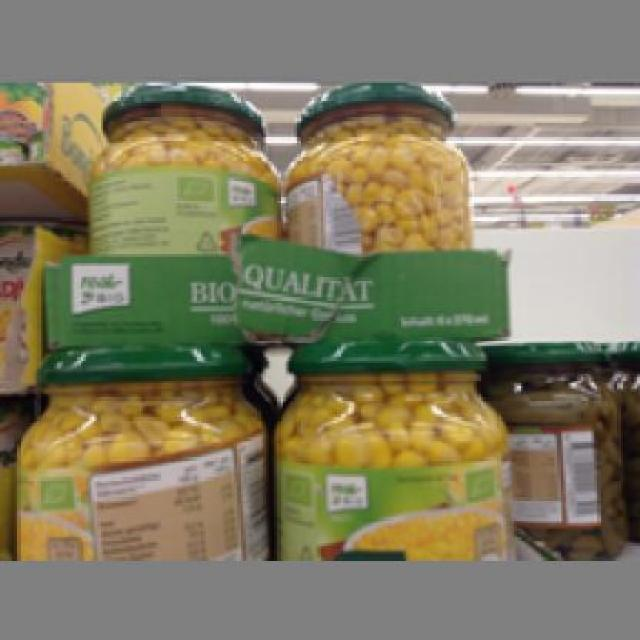Corn: (259, 340, 512, 560), (13, 346, 266, 554), (277, 80, 477, 249), (89, 83, 278, 240)
